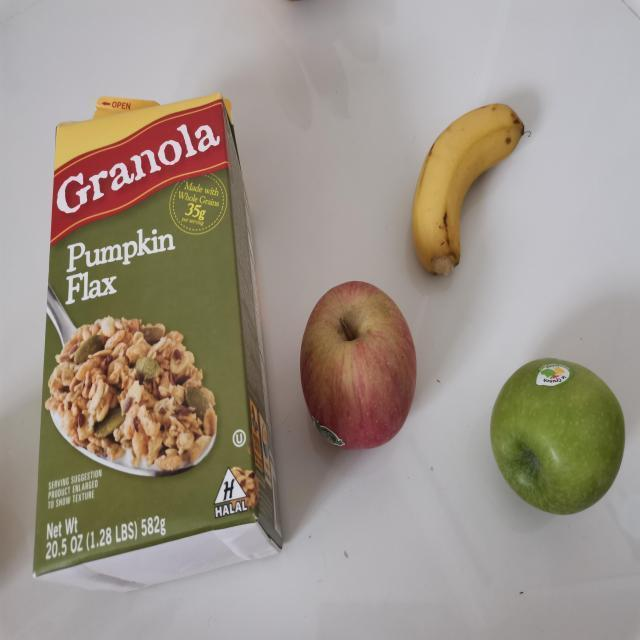Apple: (486, 353, 626, 516), (296, 279, 421, 453)
Banana: (408, 99, 530, 279)
Cerealbox: (28, 94, 287, 594)
